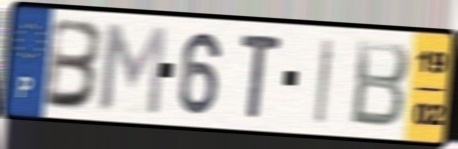6: (177, 28, 224, 118)
B: (41, 15, 107, 113), (348, 37, 413, 132)
I: (312, 35, 337, 127)
M: (97, 19, 170, 118)
T: (238, 30, 285, 122)
